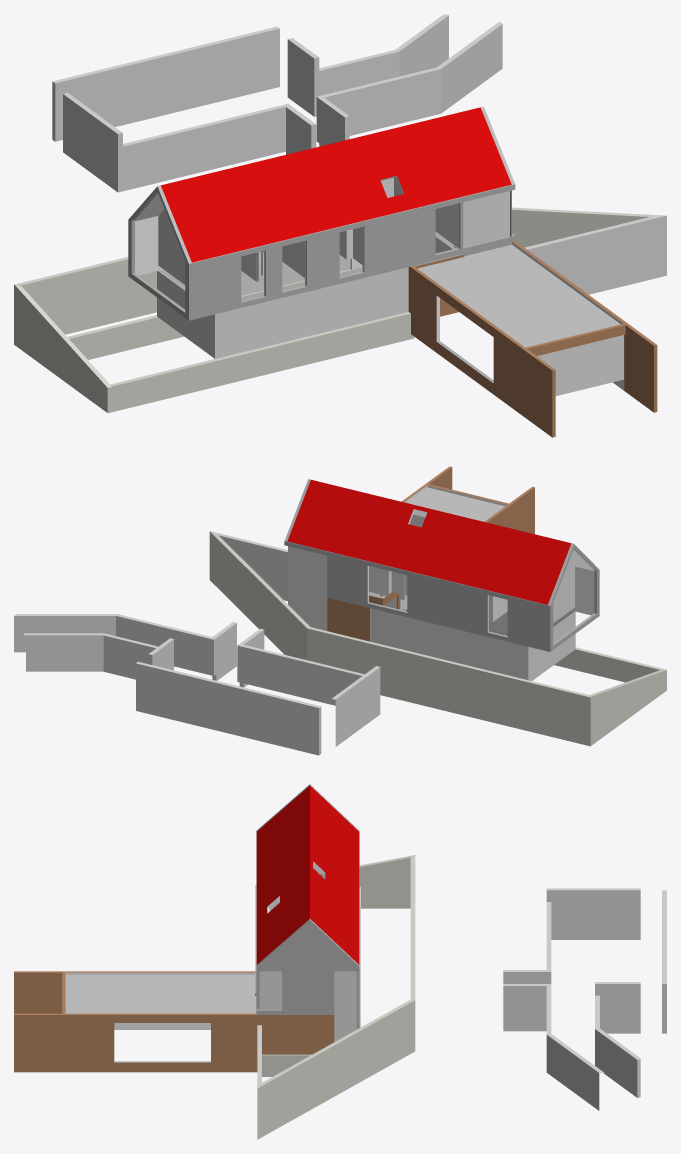
File: revit.gltf
3 views of the same model, one above another, from view 1: azimuth 30°, elevation 25°; view 2: azimuth 150°, elevation 25°; view 3: azimuth 270°, elevation 25° (orthographic). The views are drawn at different scales.
Bounding box in the file's own units: 36382 × 10699 × 40417.
